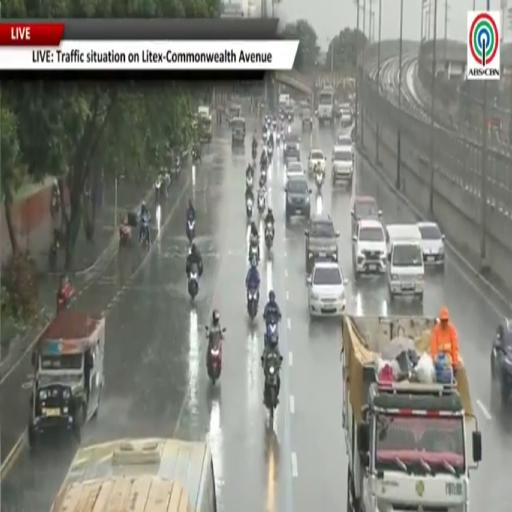bus: (51, 439, 217, 511)
car: (388, 240, 424, 301), (307, 262, 347, 316), (352, 219, 387, 278), (305, 214, 339, 274), (491, 318, 511, 405), (417, 222, 444, 269), (285, 174, 311, 220), (351, 196, 382, 234), (332, 147, 354, 186), (308, 149, 326, 175), (283, 132, 300, 159), (286, 162, 304, 181), (339, 104, 353, 126), (301, 107, 313, 131), (336, 134, 353, 150), (284, 155, 300, 166), (285, 104, 294, 122)
jeepney: (28, 310, 105, 447), (231, 118, 245, 145), (198, 116, 212, 141), (228, 104, 241, 124), (198, 106, 210, 117)
motorcycle: (261, 351, 282, 427), (206, 327, 226, 385), (57, 284, 74, 313), (49, 230, 59, 271), (188, 265, 199, 300), (265, 318, 278, 345), (247, 288, 258, 319), (141, 218, 150, 249), (264, 222, 274, 249), (120, 223, 131, 246), (51, 189, 60, 217), (186, 218, 195, 243), (249, 244, 259, 264), (155, 179, 164, 201), (258, 192, 266, 214), (315, 172, 323, 193), (246, 198, 253, 219), (192, 148, 201, 163), (261, 159, 268, 174), (261, 167, 267, 184), (246, 174, 253, 188), (262, 131, 269, 143), (252, 146, 257, 161), (268, 144, 273, 159), (276, 132, 281, 143), (271, 120, 276, 131)
truck: (341, 315, 482, 511), (317, 88, 335, 125)
